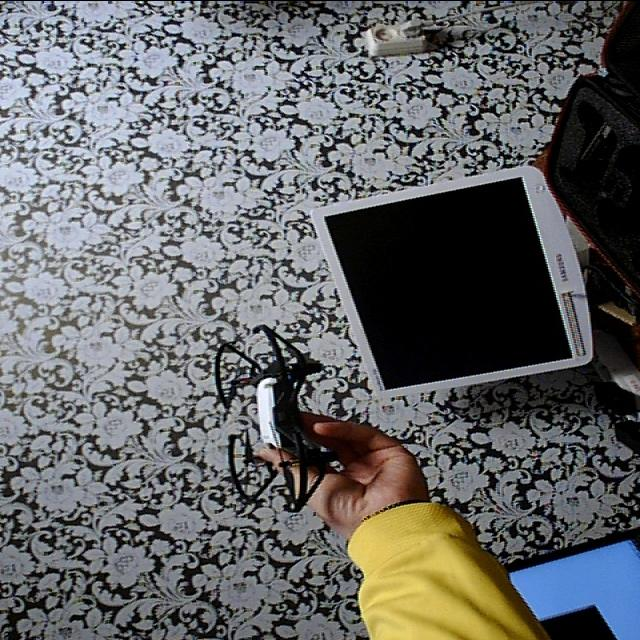drone: (196, 316, 348, 508)
